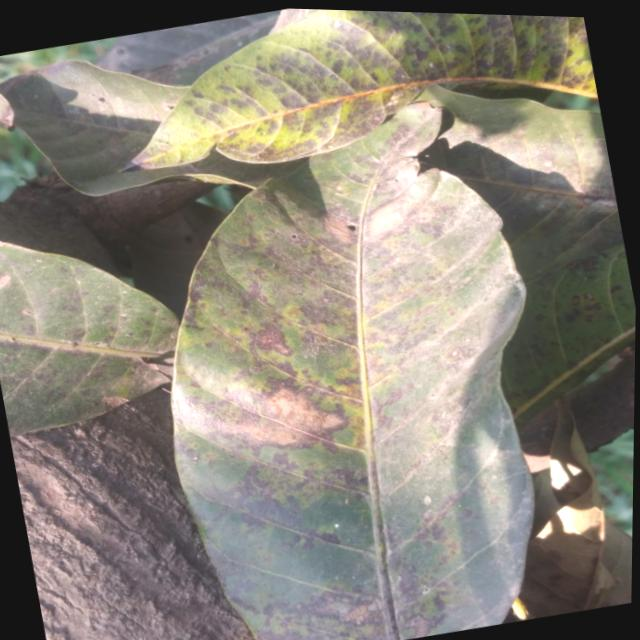Bacterial Cancer: (241, 388, 311, 453)
black die: (409, 14, 505, 85), (548, 277, 618, 348), (375, 306, 437, 363), (285, 287, 342, 333), (289, 69, 327, 97), (217, 83, 235, 95)
